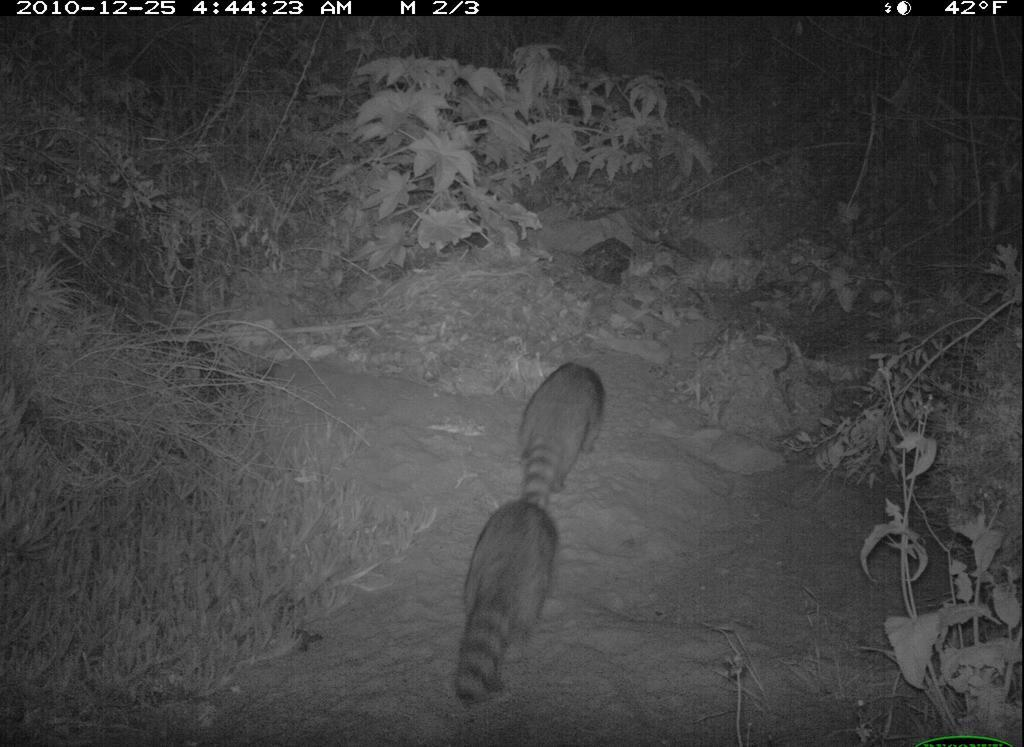raccoon: (447, 496, 564, 707), (507, 361, 614, 510)
